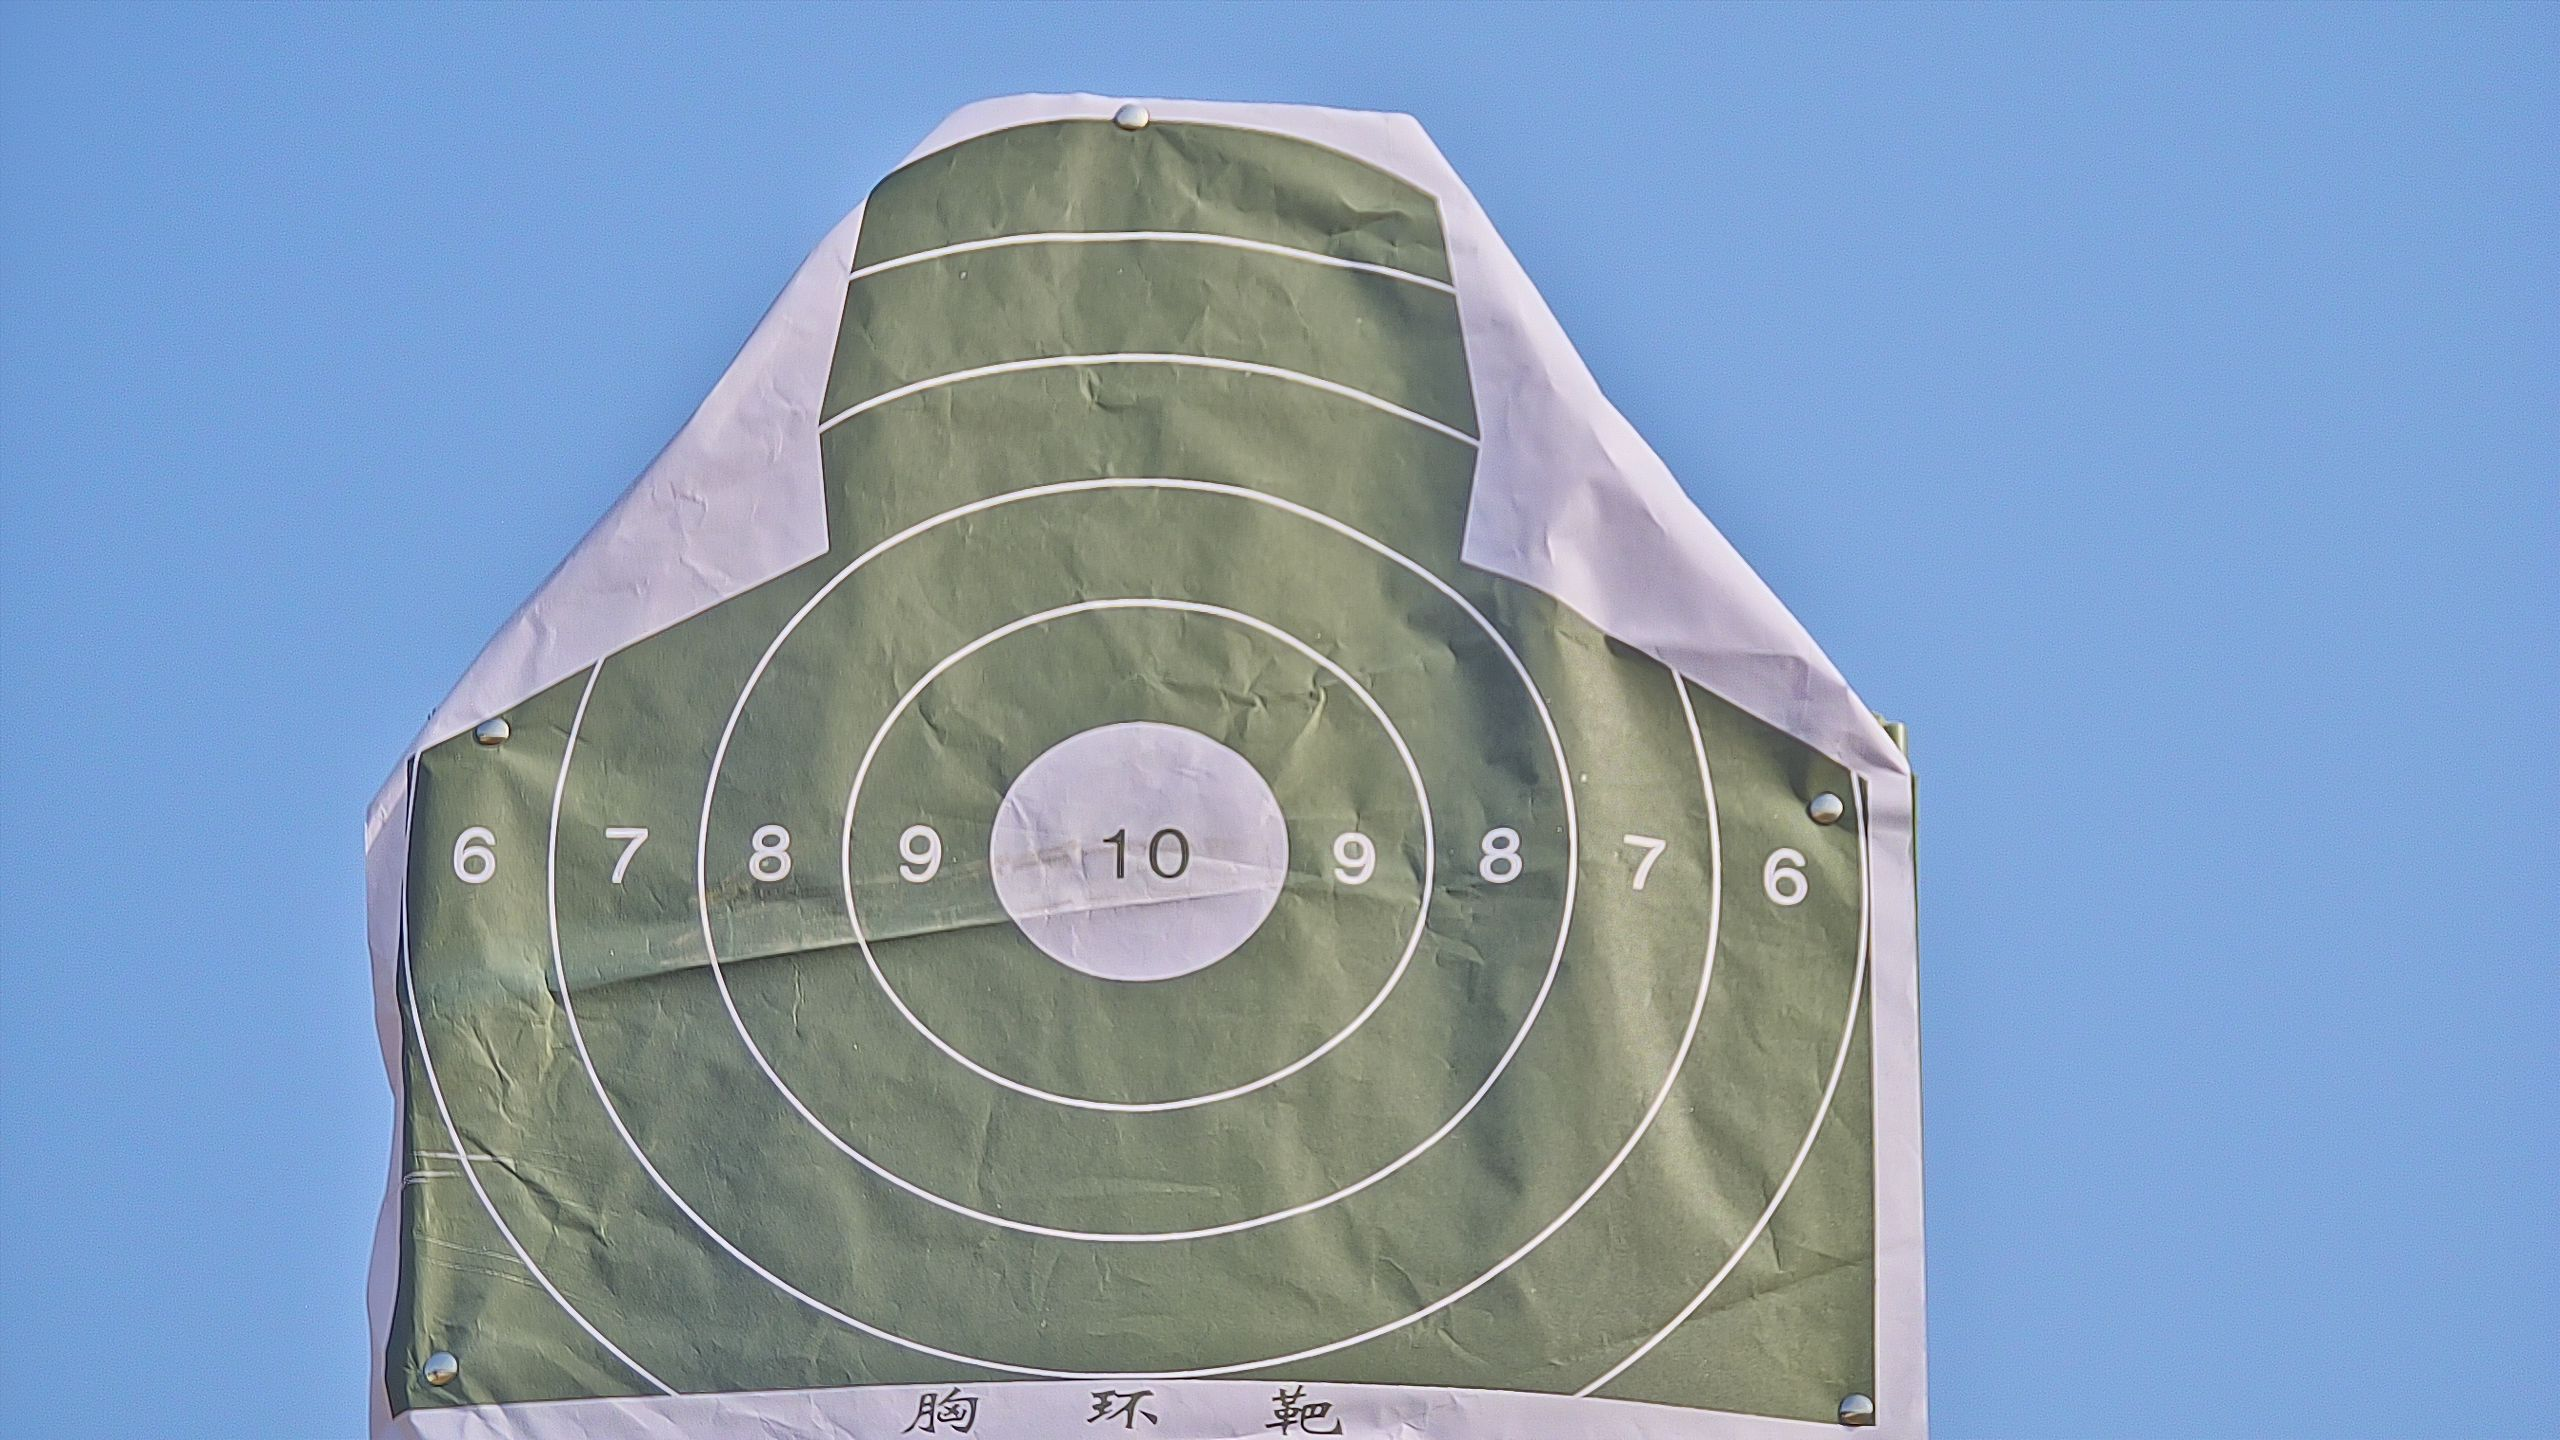kernel: (1134, 849, 1139, 858)
target: (401, 121, 1876, 1440)
ten: (990, 719, 1291, 985)
